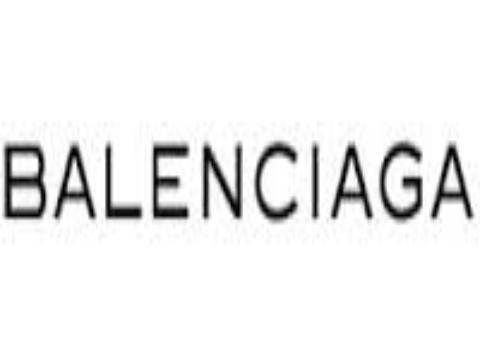BALENCIAGA: (2, 136, 475, 228)
